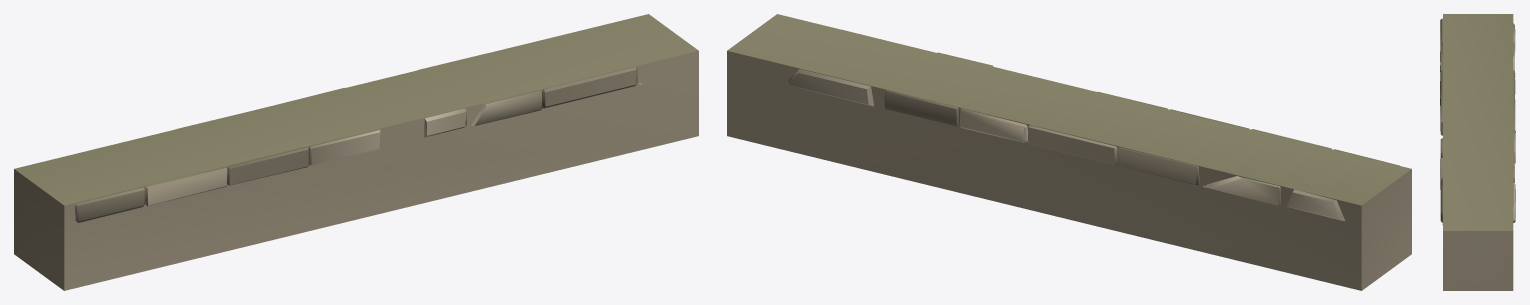
File: street_lintel_cross.glb
The picture shows the model from 3 angles, left to right: view 1: azimuth 30°, elevation 25°; view 2: azimuth 150°, elevation 25°; view 3: azimuth 270°, elevation 25°; orthographic projection. The views are drawn at different scales.
Parts seen in each view (by area): view 1: street_lintel_cross_far, street_lintel_cross; view 2: street_lintel_cross_far, street_lintel_cross; view 3: street_lintel_cross_far, street_lintel_cross.
Boxes of the visible parts, x1,y1,x2,y2 form: street_lintel_cross_far: [14, 14, 698, 290]; street_lintel_cross: [75, 53, 641, 222]; street_lintel_cross_far: [727, 14, 1411, 290]; street_lintel_cross: [788, 29, 1399, 221]; street_lintel_cross_far: [1443, 14, 1513, 290]; street_lintel_cross: [1440, 18, 1515, 224].
Size of the model in its own units: 23.34 by 3.01 by 3.45.
